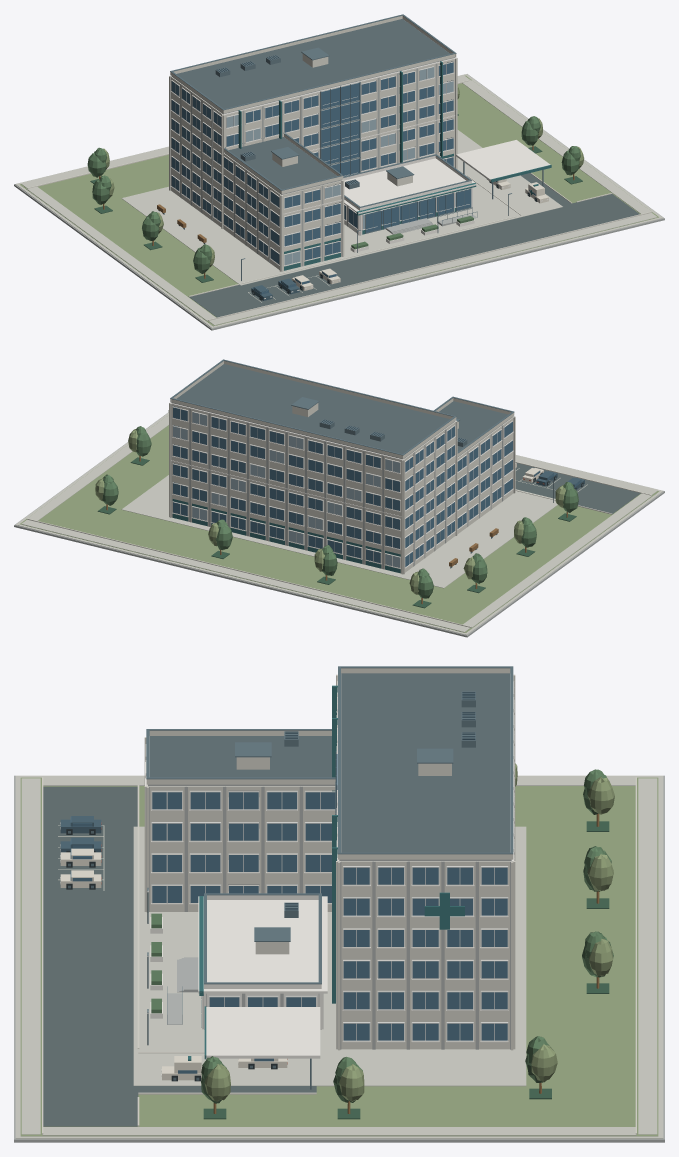
Rendered from hospital.glb.
3 renders of one model, top to bottom at view 1: azimuth 30°, elevation 25°; view 2: azimuth 150°, elevation 25°; view 3: azimuth 270°, elevation 25°, orthographic. The views are drawn at different scales.
Visible parts, largest first — view 1: Landscape_Paving_Paving, Landscape_Lawn_Grass, Facade_Glass_Glass, Structure_Roof_Roof, Landscape_Road_Asphalt, Facade_Panels_Ivory, Facade_Frames_White, Facade_Piers_Ivory, Structure_Columns_Concrete, Structure_PavilionRoof_White, Facade_CurtainWall_Glass, Facade_Parapets_Ivory (+20 smaller); view 2: Landscape_Lawn_Grass, Landscape_Paving_Paving, Facade_Glass_Glass, Structure_Roof_Roof, Facade_Panels_Ivory, Facade_Frames_White, Facade_Piers_Ivory, Structure_Columns_Concrete, Landscape_Trees_Green, Facade_Parapets_Ivory, Facade_Glass_GlassLight, Landscape_Road_Asphalt (+10 smaller); view 3: Landscape_Lawn_Grass, Landscape_Paving_Paving, Structure_Roof_Roof, Landscape_Road_Asphalt, Facade_Glass_Glass, Facade_Panels_Ivory, Structure_PavilionRoof_White, Facade_Piers_Ivory, Facade_Frames_White, Structure_AmbulanceCanopy_White, Structure_Columns_Concrete, Facade_Cappings_Metal (+17 smaller).
Boxes of the visible parts, x1,y1,x2,y2 form: Landscape_Paving_Paving: (15,74,663,328); Landscape_Lawn_Grass: (20,75,658,326); Facade_Glass_Glass: (171,61,471,264); Structure_Roof_Roof: (176,19,449,189); Landscape_Road_Asphalt: (189,173,639,317); Facade_Panels_Ivory: (171,59,453,269); Facade_Frames_White: (171,61,468,265); Facade_Piers_Ivory: (169,57,457,271); Structure_Columns_Concrete: (170,59,470,271); Structure_PavilionRoof_White: (344,158,476,214); Facade_CurtainWall_Glass: (321,83,359,176); Facade_Parapets_Ivory: (170,15,456,194); Landscape_Lawn_Grass: (20,423,658,632); Landscape_Paving_Paving: (15,412,663,635); Facade_Glass_Glass: (173,406,512,566); Structure_Roof_Roof: (176,364,508,453); Facade_Panels_Ivory: (172,405,513,572); Facade_Frames_White: (172,406,513,568); Facade_Piers_Ivory: (169,402,515,574); Structure_Columns_Concrete: (171,404,514,569); Landscape_Trees_Green: (102,426,578,598); Facade_Parapets_Ivory: (170,361,514,458); Facade_Glass_GlassLight: (173,412,508,567); Landscape_Road_Asphalt: (515,463,640,514); Landscape_Lawn_Grass: (20,777,658,1136); Landscape_Paving_Paving: (15,775,663,1138); Structure_Roof_Roof: (150,673,509,852); Landscape_Road_Asphalt: (43,786,316,1126); Facade_Glass_Glass: (152,792,507,1040); Facade_Panels_Ivory: (147,784,509,1049); Structure_PavilionRoof_White: (198,896,327,993); Facade_Piers_Ivory: (144,674,515,1050); Facade_Frames_White: (145,681,514,1041); Structure_AmbulanceCanopy_White: (205,1007,320,1058); Structure_Columns_Concrete: (146,786,512,1049); Facade_Cappings_Metal: (146,666,513,984).
Size of the model in its own units: 90 by 24.08 by 68.
